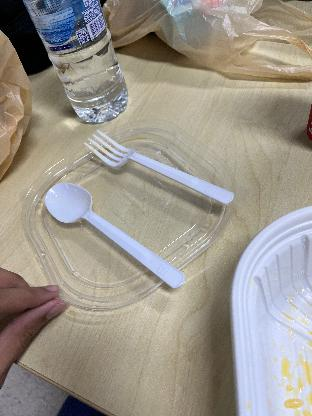Others: (40, 180, 190, 290), (82, 127, 238, 214)
